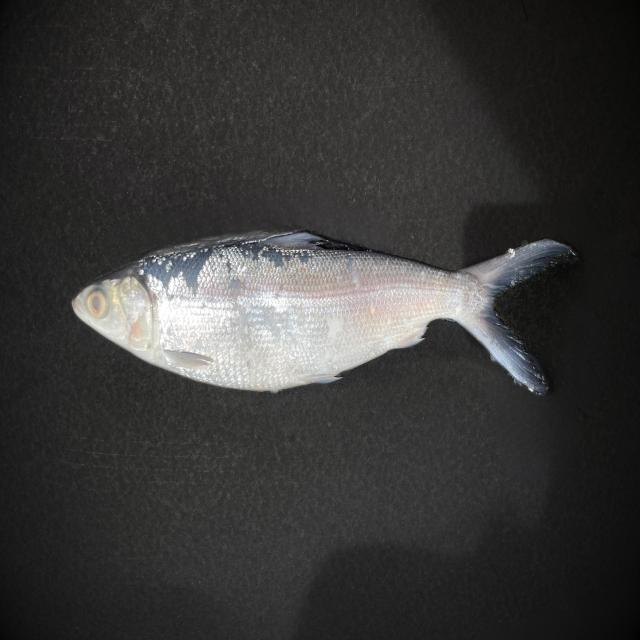650 g: (71, 232, 572, 392)
